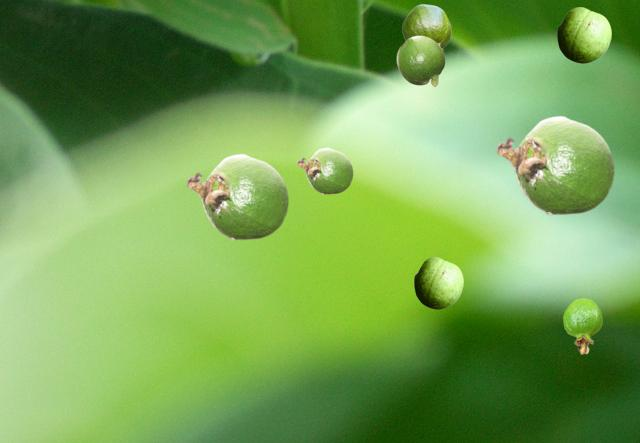guava: (496, 115, 614, 214), (186, 153, 288, 239), (557, 7, 610, 62), (297, 147, 352, 193), (414, 257, 462, 308), (396, 35, 444, 86), (402, 4, 450, 49), (563, 298, 601, 353)
